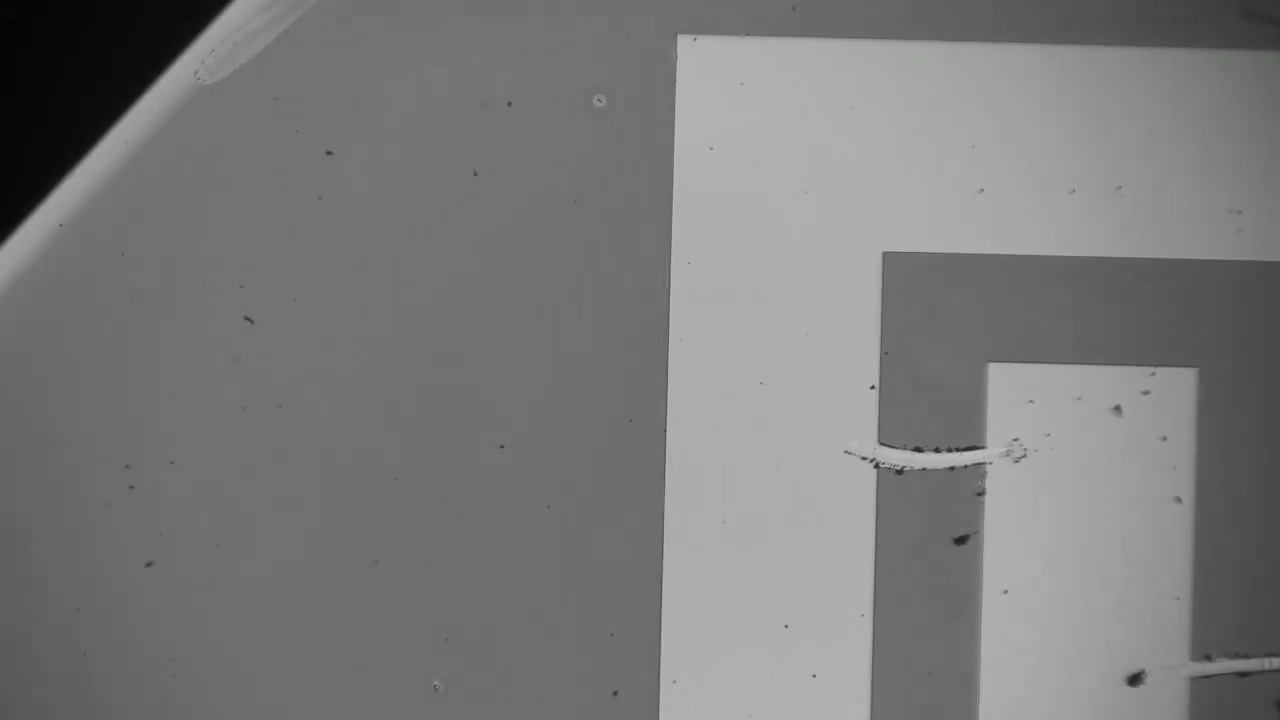Short_circuit: (836, 412, 1022, 483), (1156, 632, 1279, 693)
